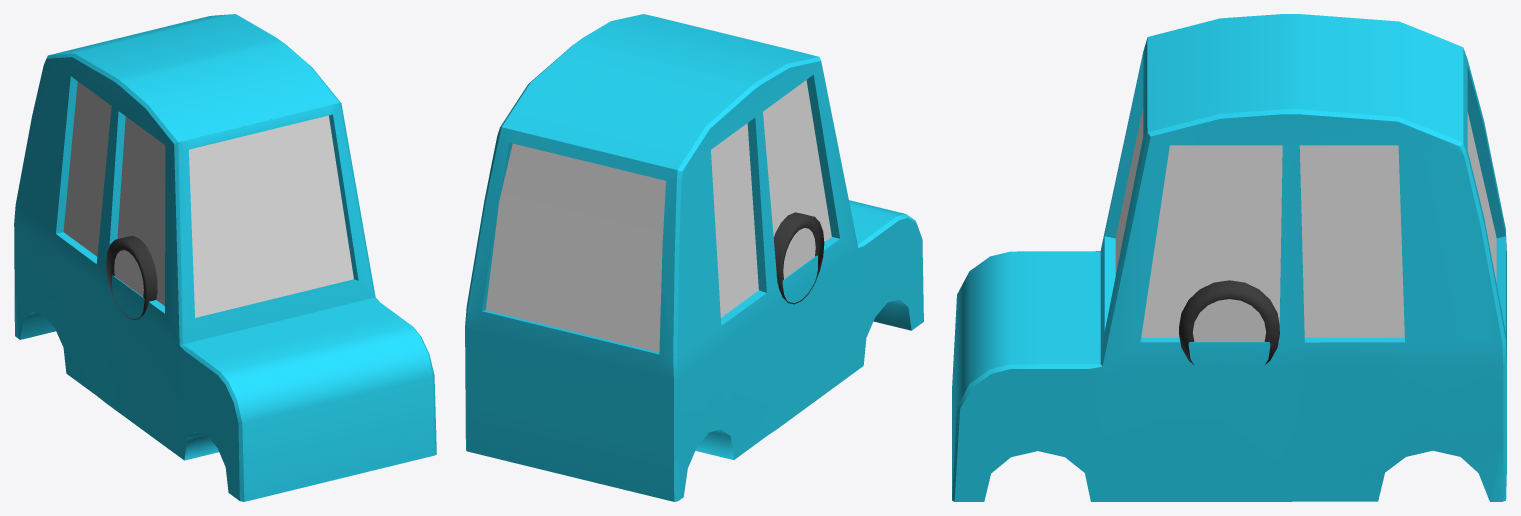
The model's file is car 1 wheels.fbx.
3 renders of one model, left to right at view 1: azimuth 30°, elevation 25°; view 2: azimuth 150°, elevation 25°; view 3: azimuth 270°, elevation 25°, orthographic. The views are drawn at different scales.
Visible parts, largest first — view 1: car_1_chasis, car_1_right_wheel; view 2: car_1_chasis, car_1_right_wheel; view 3: car_1_chasis, car_1_back_wheel, car_1_left_wheel.
Boxes of the visible parts, bbox=[...] form: car_1_chasis: bbox=[14, 14, 436, 501]; car_1_right_wheel: bbox=[106, 235, 157, 320]; car_1_chasis: bbox=[465, 14, 923, 501]; car_1_right_wheel: bbox=[773, 212, 824, 304]; car_1_chasis: bbox=[952, 14, 1506, 501]; car_1_back_wheel: bbox=[1191, 298, 1267, 341]; car_1_left_wheel: bbox=[1179, 280, 1279, 365].
Size of the model in its own units: 76.25 by 117 by 154.
